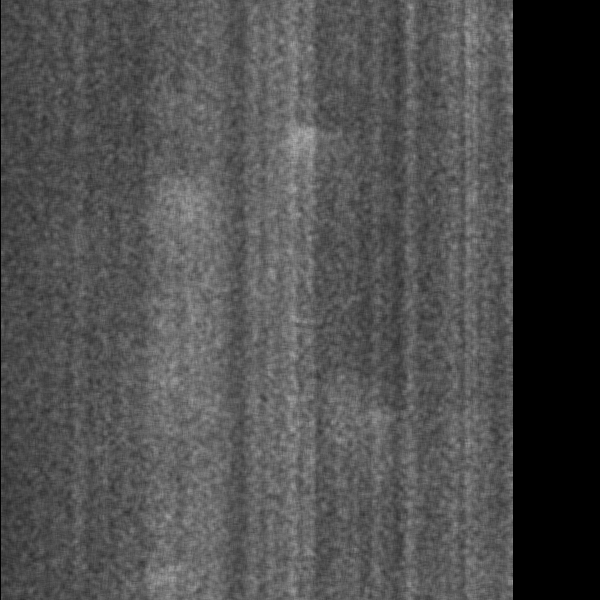spark: (277, 121, 347, 190), (169, 179, 200, 261), (356, 400, 381, 453), (146, 559, 182, 580)
